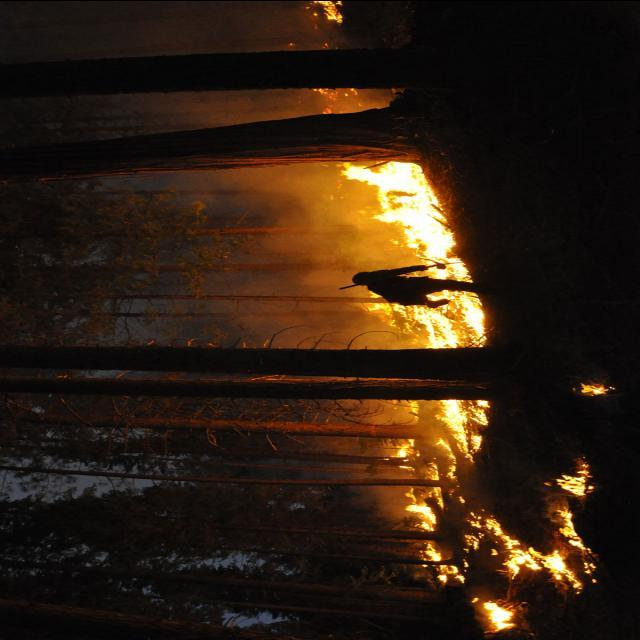Fire: (378, 402, 592, 630), (332, 155, 494, 349)
